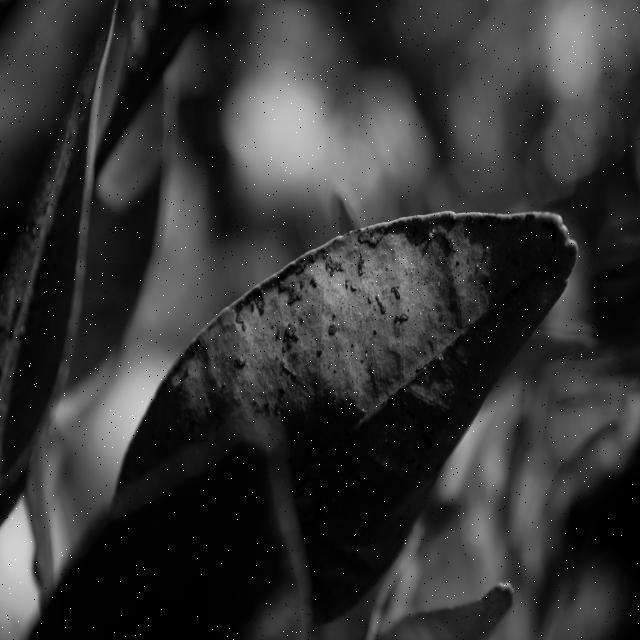melanose: (131, 240, 531, 582)
